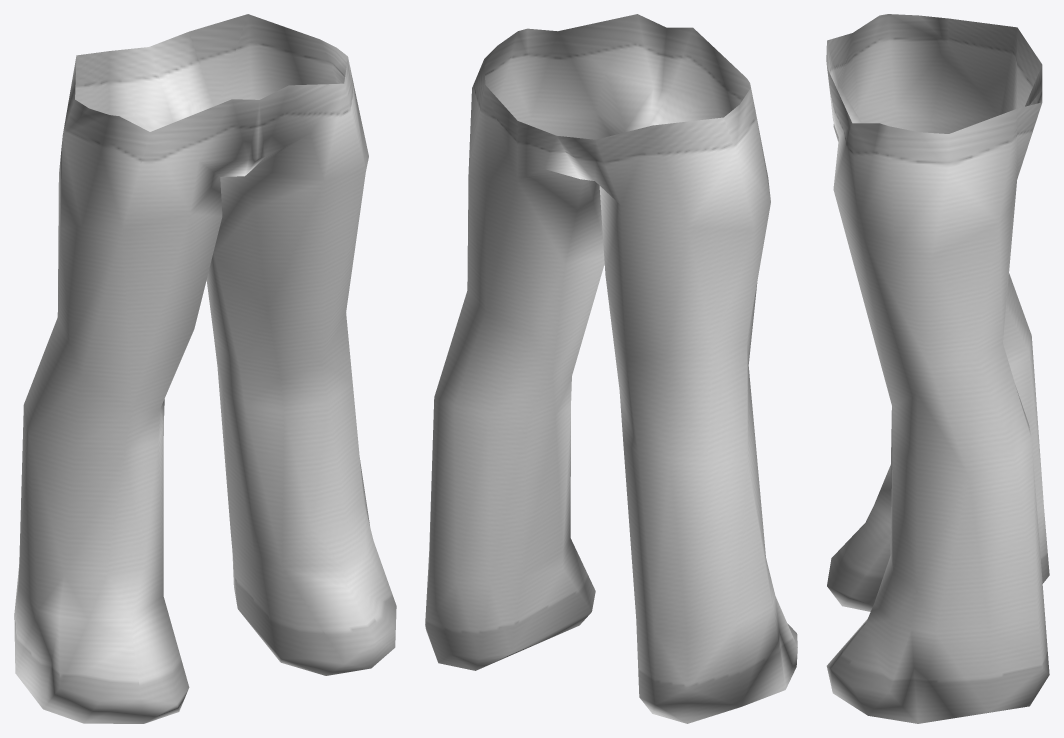
The model's file is Tights.glb.
3 views of the same model, side by side, from view 1: azimuth 30°, elevation 25°; view 2: azimuth 150°, elevation 25°; view 3: azimuth 270°, elevation 25° (orthographic). The views are drawn at different scales.
Visible parts, largest first — view 1: Tights; view 2: Tights; view 3: Tights.
Part boxes in pixels (x1,y1,x2,y2): Tights: (14,14,396,723); Tights: (425,14,797,723); Tights: (826,14,1049,723).
Size of the model in its own units: 7.92 by 13.77 by 4.65.
1 material, 1 textured.
